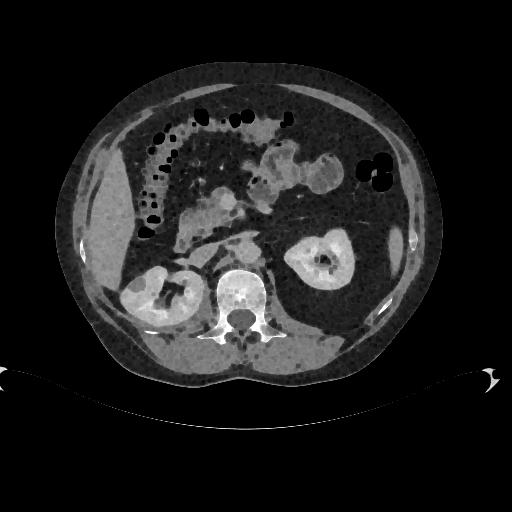Lesion: (125, 277, 150, 293)
